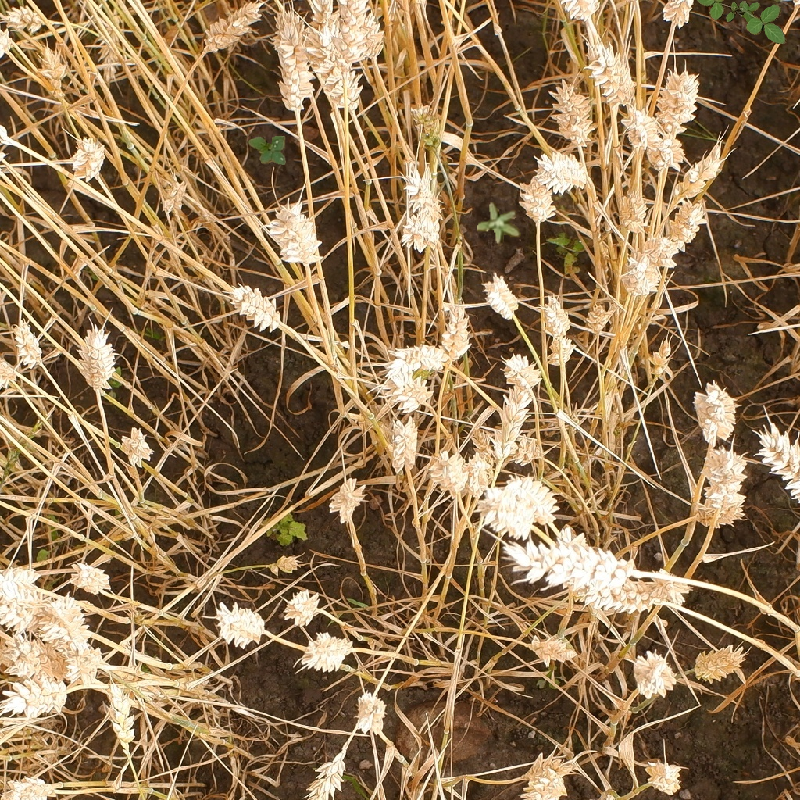spikelet: (500, 531, 638, 594), (579, 565, 687, 618), (478, 471, 561, 538), (270, 3, 318, 115), (395, 158, 448, 256), (315, 13, 365, 114), (694, 442, 750, 529), (755, 421, 800, 516), (623, 103, 683, 171), (266, 197, 323, 266), (583, 38, 640, 107), (654, 65, 704, 138), (197, 1, 264, 55), (73, 321, 121, 395), (689, 378, 742, 445), (224, 278, 286, 335), (548, 80, 599, 145), (1, 673, 69, 721), (490, 387, 534, 461), (336, 1, 389, 62), (532, 146, 593, 196), (101, 676, 142, 750), (212, 596, 269, 649), (628, 644, 680, 702), (298, 746, 353, 800), (42, 592, 93, 650), (660, 197, 709, 257), (515, 751, 573, 800), (690, 636, 749, 684), (300, 626, 356, 675), (1, 563, 41, 630), (384, 338, 447, 380), (436, 298, 475, 363), (406, 99, 449, 157), (383, 412, 424, 472), (478, 270, 523, 324), (621, 248, 666, 301), (527, 625, 580, 668), (66, 131, 109, 182), (430, 444, 471, 497), (498, 347, 546, 392), (65, 553, 114, 597), (516, 176, 559, 226), (114, 420, 157, 470), (326, 472, 368, 523), (1, 634, 48, 679), (351, 685, 391, 737), (388, 371, 435, 414), (537, 291, 575, 343), (641, 754, 685, 798), (152, 168, 191, 217), (11, 316, 47, 369), (281, 583, 323, 626), (66, 643, 106, 687), (1, 770, 59, 800), (2, 1, 49, 36), (656, 1, 704, 32), (549, 1, 608, 26), (1, 346, 20, 398)
weed: (695, 1, 798, 47), (477, 202, 521, 246), (264, 513, 308, 545), (247, 136, 286, 165)
